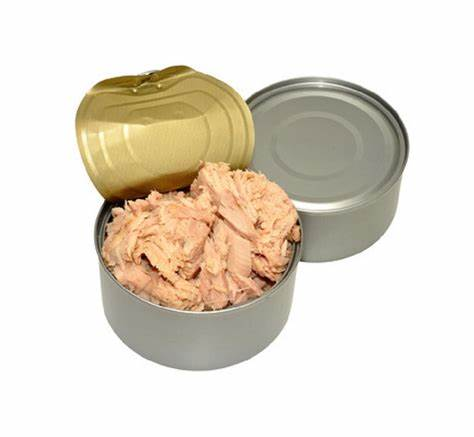Tuna: (99, 153, 304, 331)
